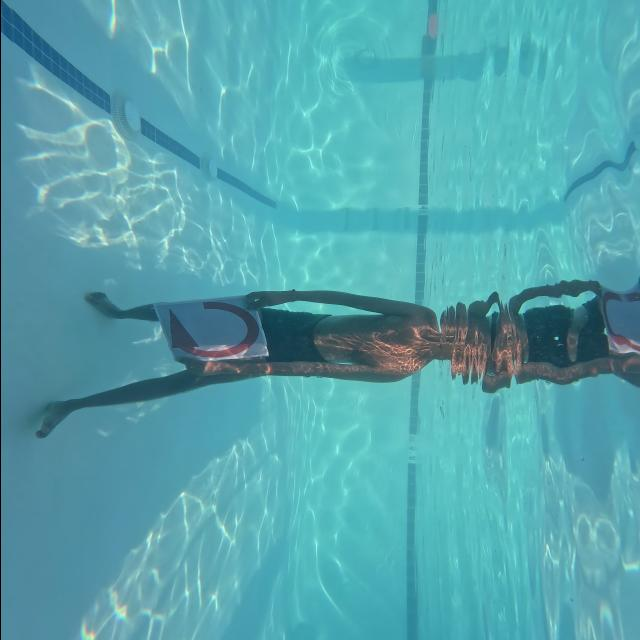red_side: (153, 296, 259, 360)
